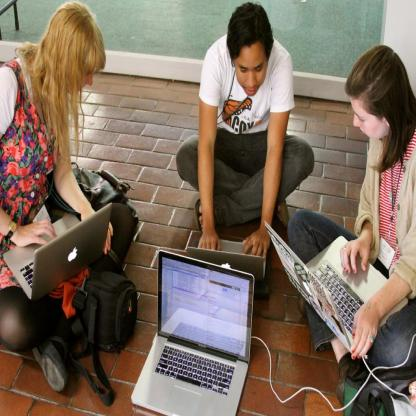board: (131, 250, 256, 415), (265, 222, 409, 354), (3, 200, 113, 304), (186, 237, 268, 279)
